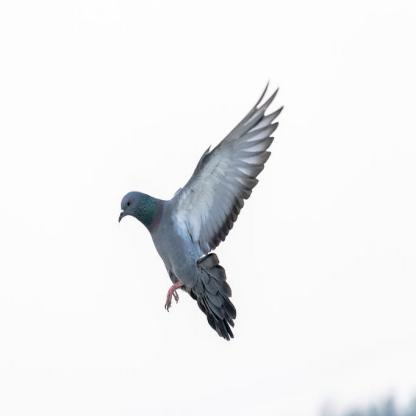Flying Rat: (113, 91, 278, 339)
